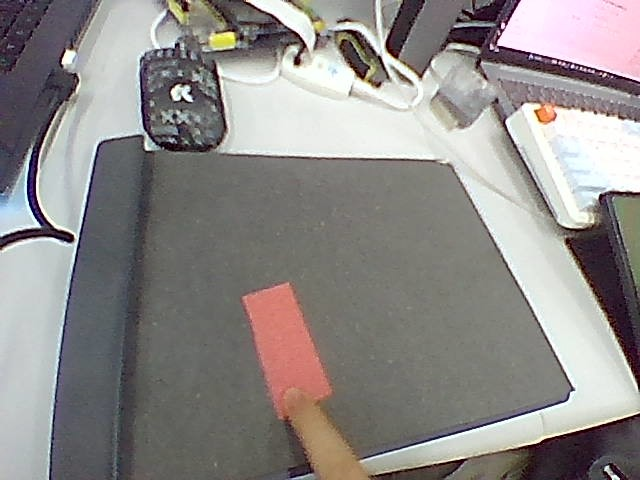card: (243, 283, 331, 417)
